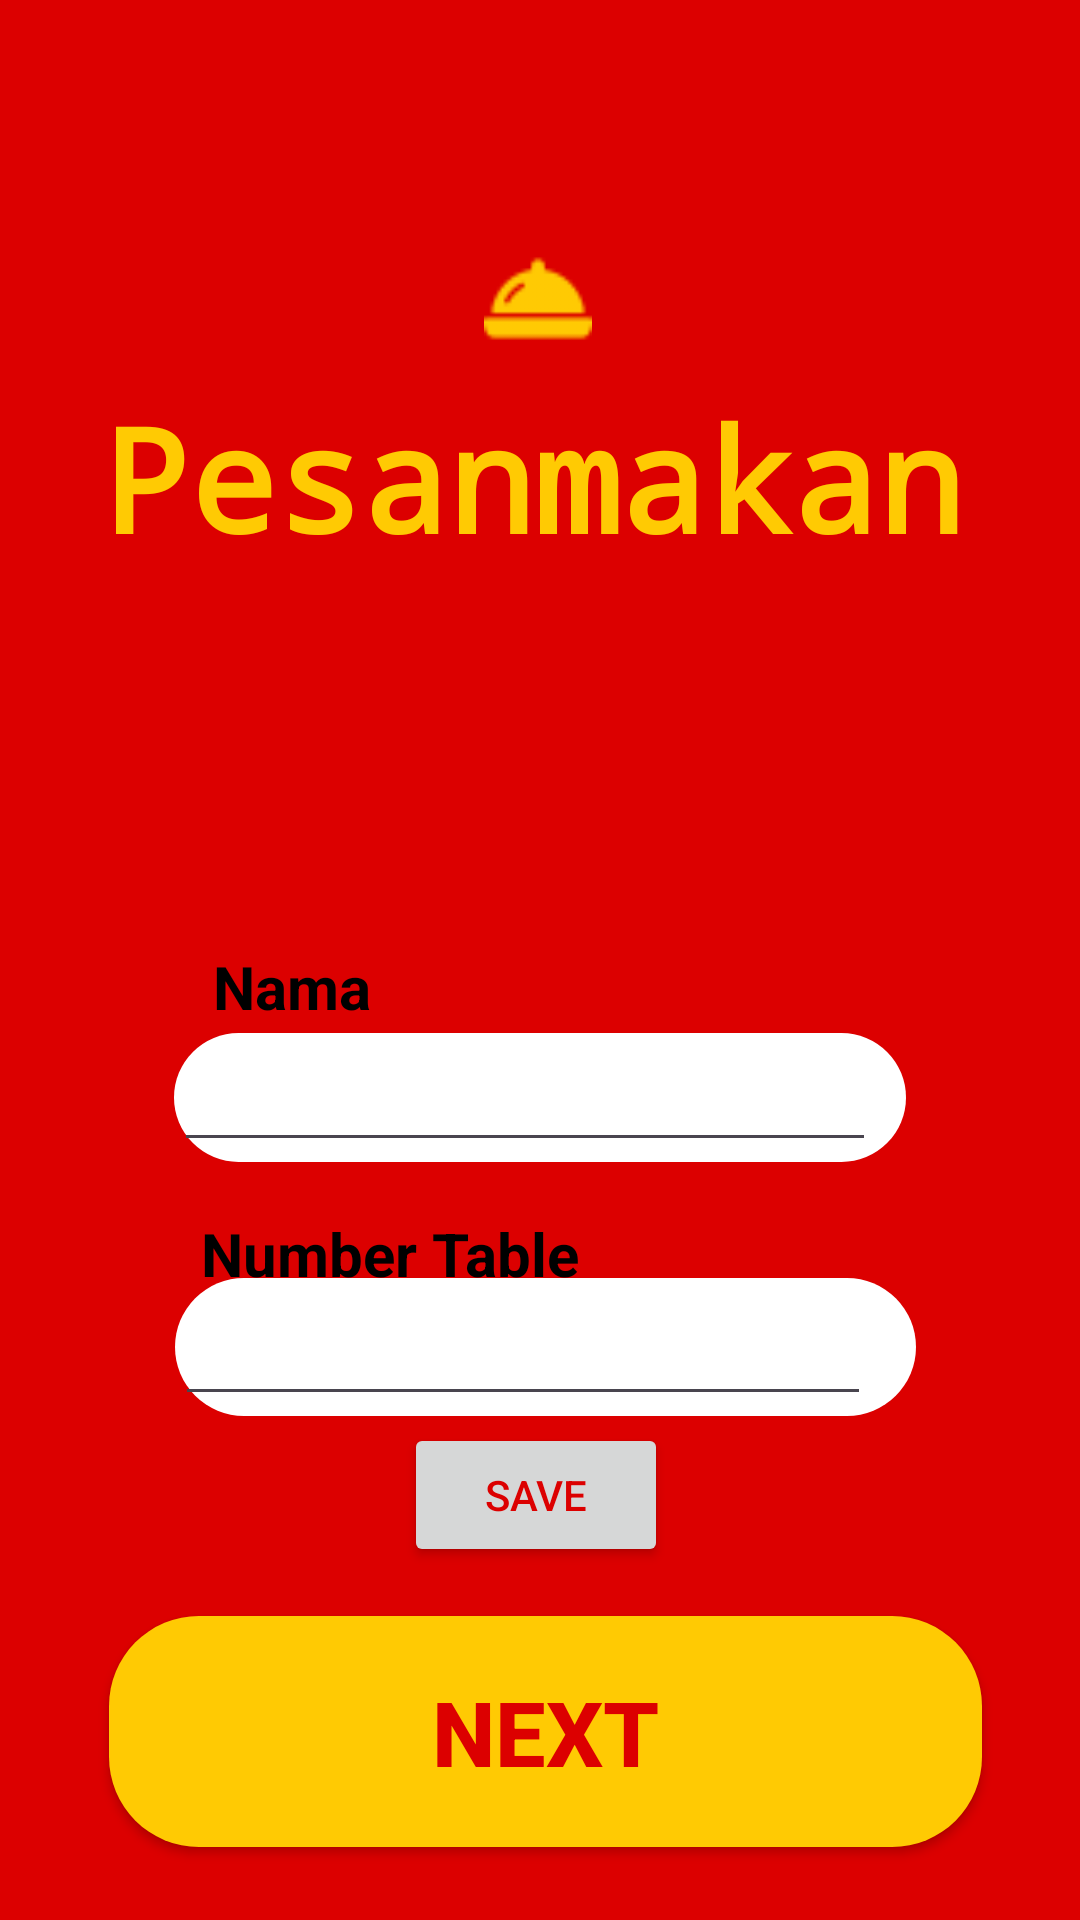

Screen size 1080w x 1920h. Icon name, then its box in pixels as (x1, y1, x2, y2):
cloche: (484, 257, 592, 340)
